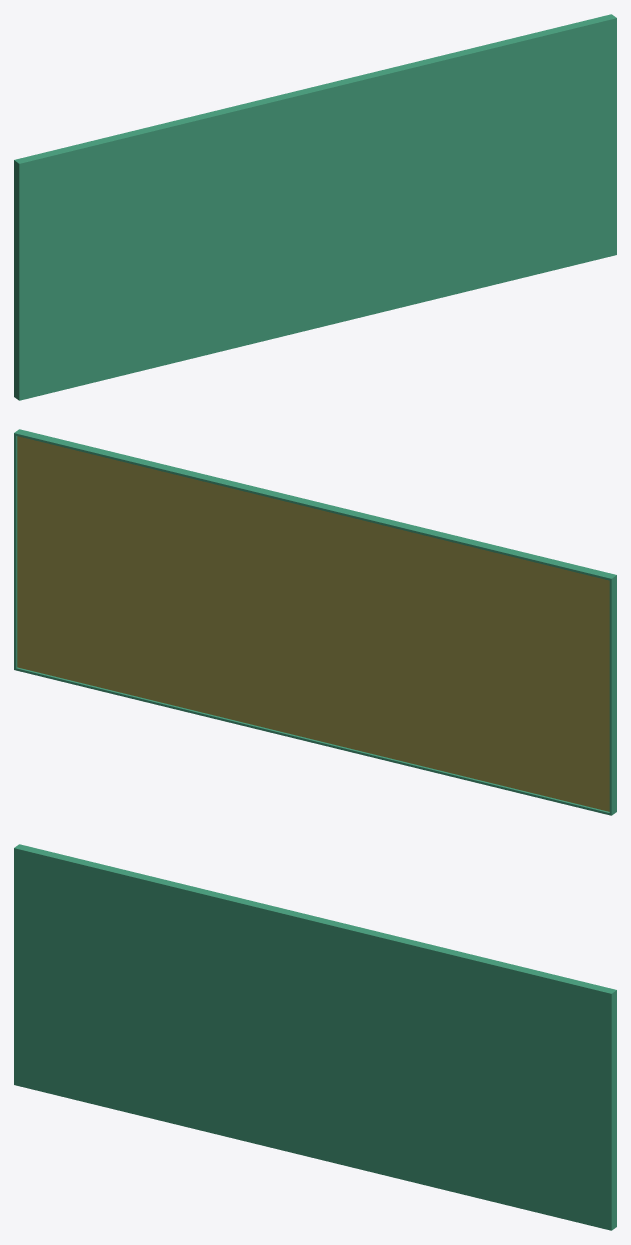
The model's file is Television.fbx.
3 renders of one model, top to bottom at view 1: azimuth 30°, elevation 25°; view 2: azimuth 150°, elevation 25°; view 3: azimuth 330°, elevation 25°, orthographic.
Parts seen in each view (by area): view 1: Television; view 2: Television; view 3: Television.
Boxes of the visible parts, x1,y1,x2,y2 form: Television: (14, 14, 616, 400); Television: (14, 429, 616, 815); Television: (14, 844, 616, 1230).
Bounding box in the file's own units: 11.25 × 4.26 × 0.1748.
